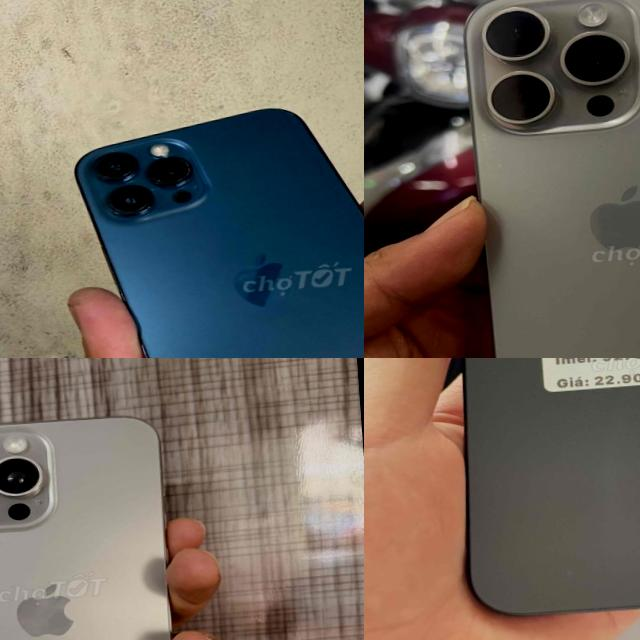gen_12_13: (75, 109, 364, 358)
gen_15: (442, 0, 640, 358), (0, 389, 219, 640)
gen_16: (461, 358, 640, 614)
